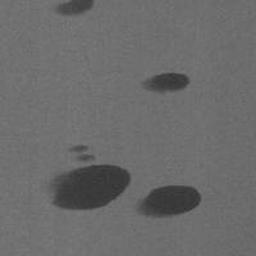Oil spot: (42, 143, 133, 212), (133, 183, 202, 223), (140, 70, 191, 95), (52, 0, 96, 18)
